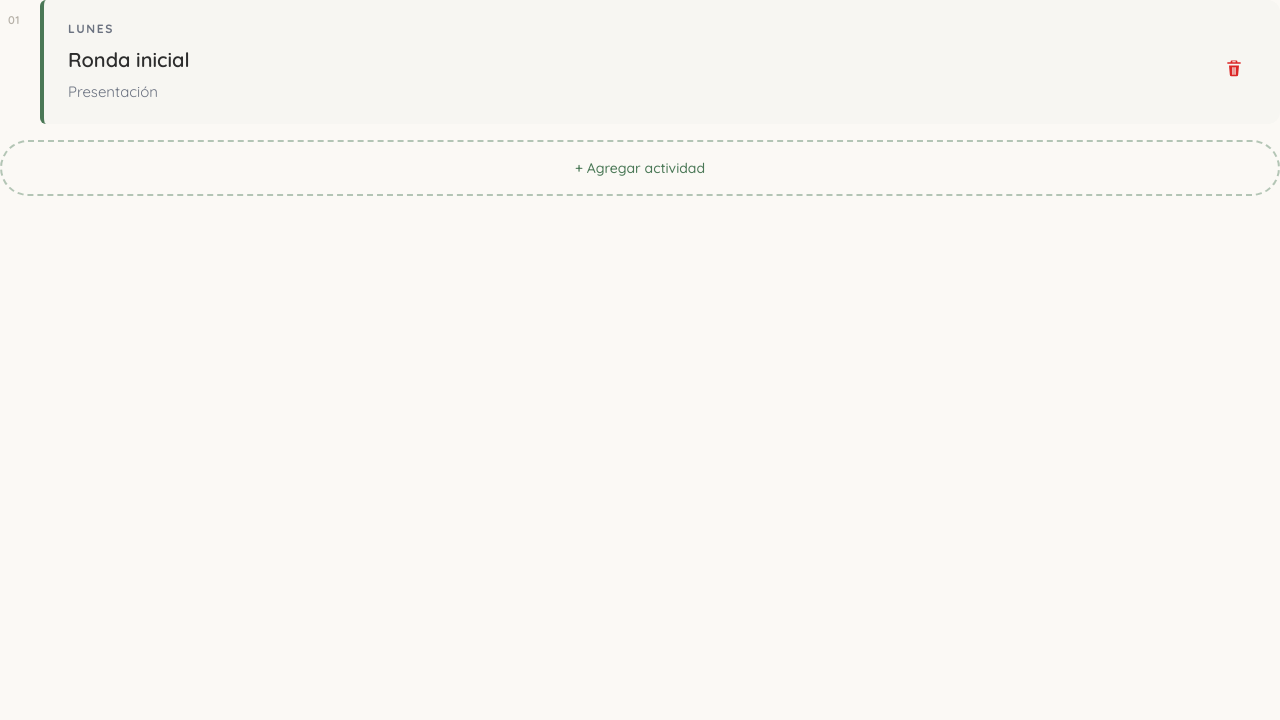
Test: ActividadesTab + PlanContext: eliminar actividad (integración con MSW) › muestra el estado vacío cuando se borra la última actividad
Expected: the text "Ronda inicial" is shown, 68,47 -> 190,72
Click the button named "Eliminar actividad: Ronda inicial" at {"x": 1234, "y": 68}, box 1212,46 -> 1256,90
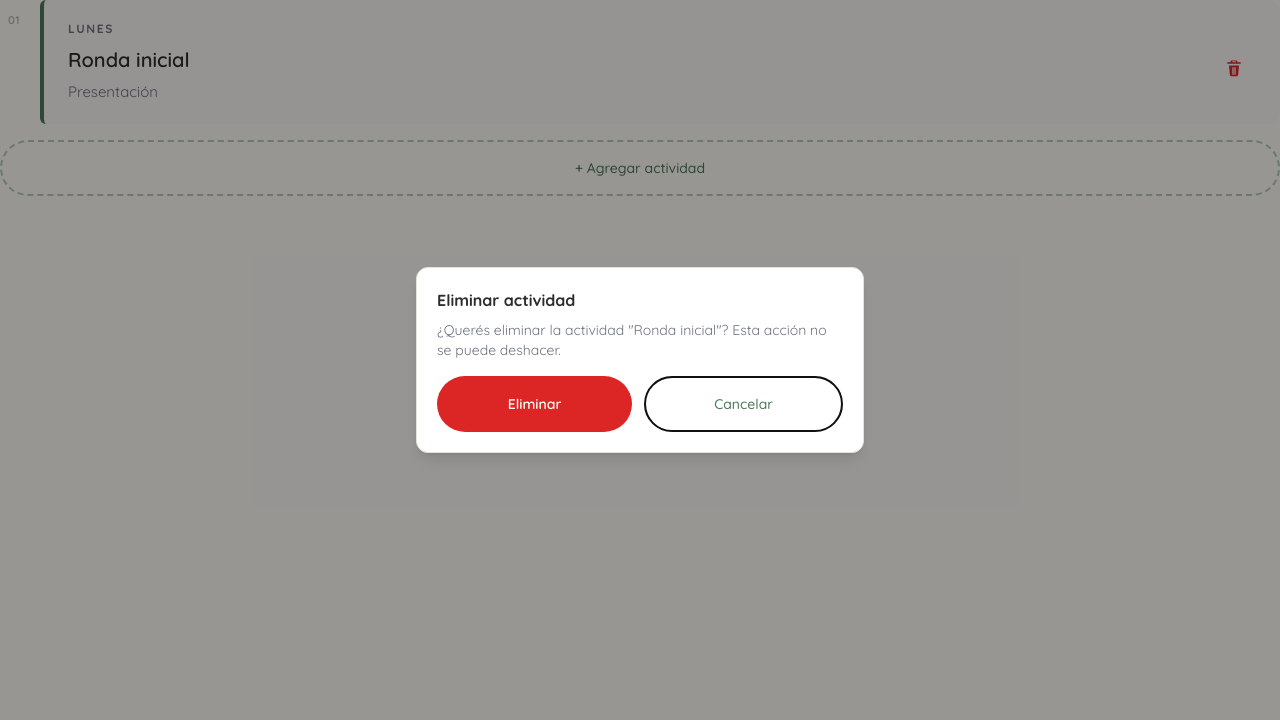
Click the button "Eliminar" at {"x": 534, "y": 404}, box 437,376 -> 632,432
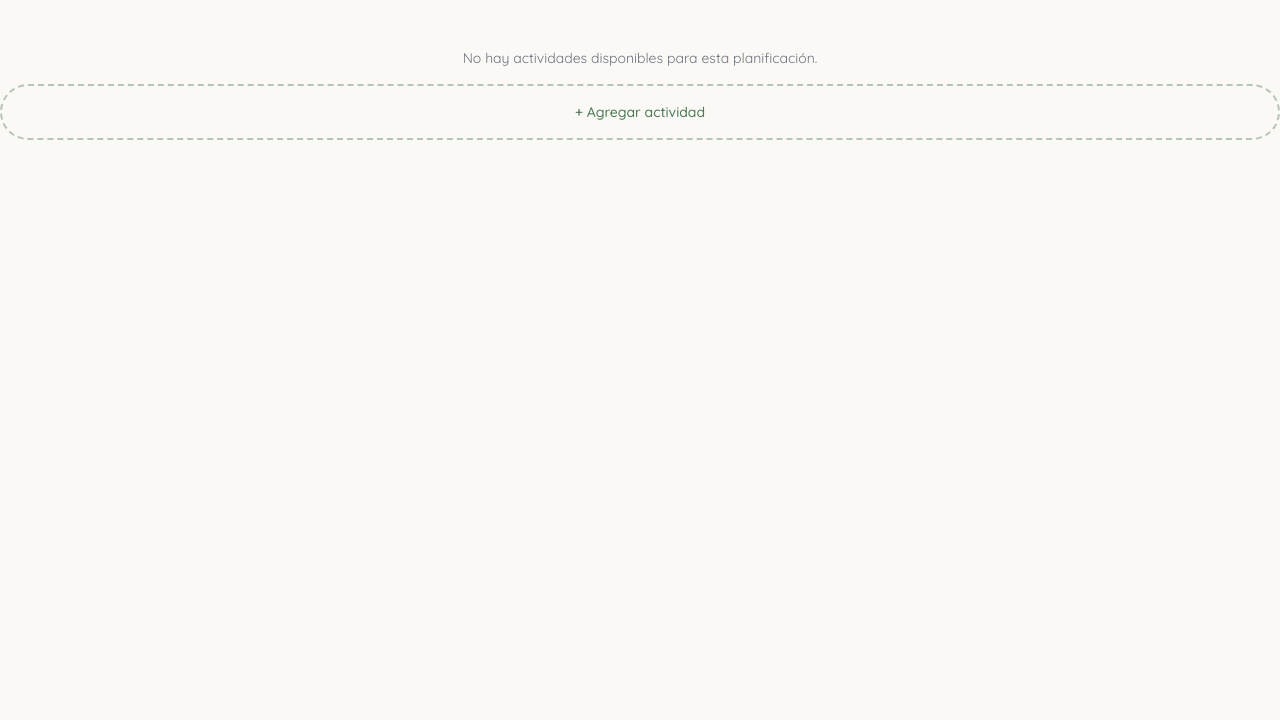
Now the text "No hay actividades disponibles para esta planificación." is shown, box 463,48 -> 817,68
Now no list items are shown
